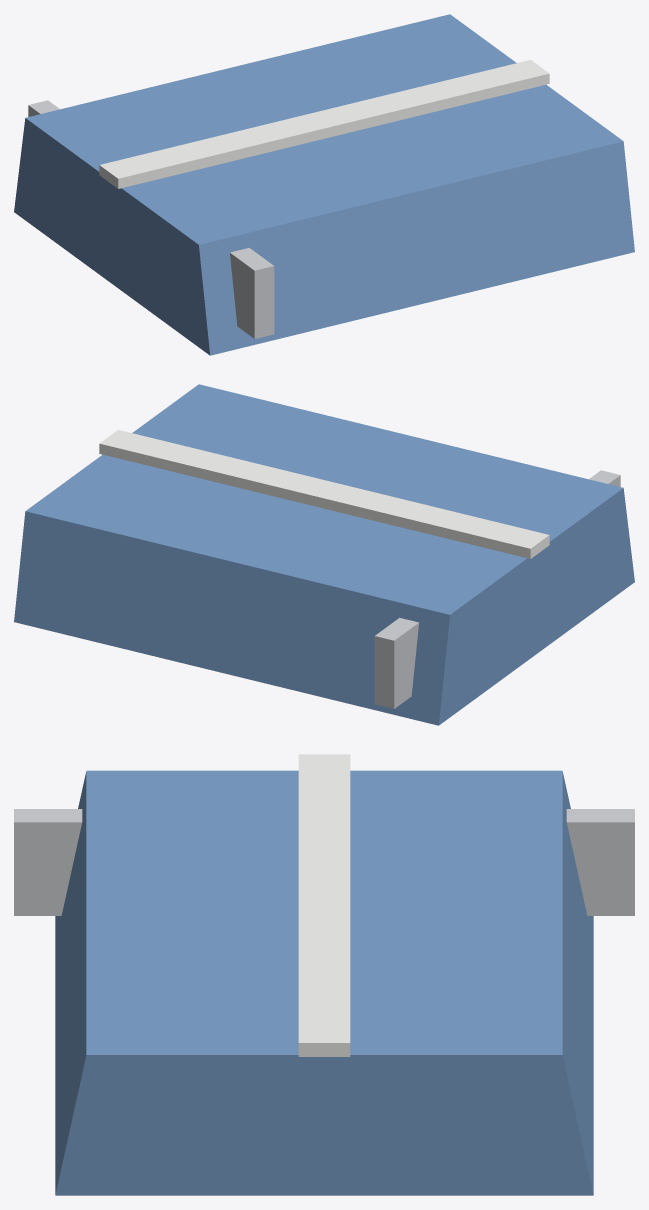
The model's file is turnout-rug-folded.glb.
The picture shows the model from 3 angles, top to bottom: view 1: azimuth 30°, elevation 25°; view 2: azimuth 150°, elevation 25°; view 3: azimuth 270°, elevation 25°; orthographic projection. The views are drawn at different scales.
Parts seen in each view (by area): view 1: turnout-rug-folded; view 2: turnout-rug-folded; view 3: turnout-rug-folded.
Boxes of the visible parts, x1=… form: turnout-rug-folded: x1=14, y1=14, x2=634, y2=355; turnout-rug-folded: x1=14, y1=384, x2=634, y2=725; turnout-rug-folded: x1=14, y1=754, x2=634, y2=1195.
Bounding box in the file's own units: 1.32 × 0.33 × 1.2.
